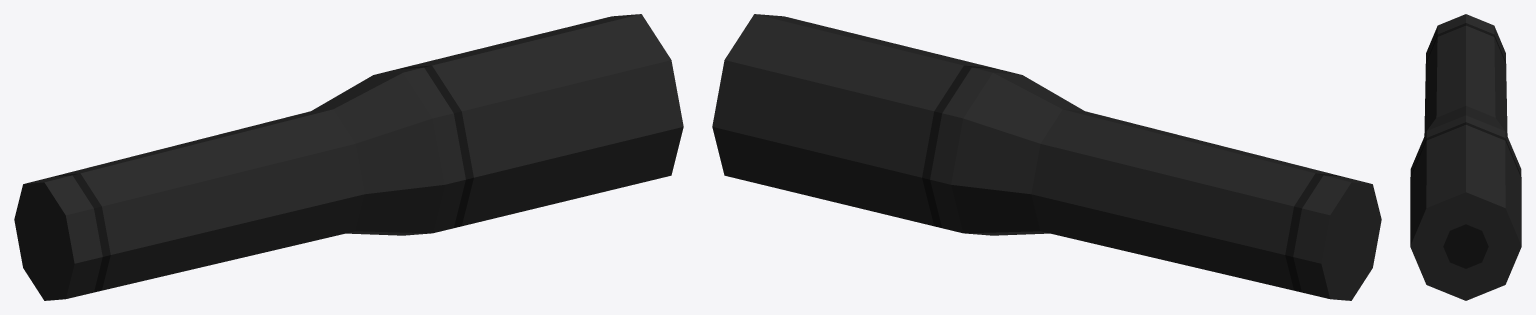
Rendered from Accesories_Silencer_V3.FBX.
3 views of the same model, side by side, from view 1: azimuth 30°, elevation 25°; view 2: azimuth 150°, elevation 25°; view 3: azimuth 270°, elevation 25° (orthographic). The views are drawn at different scales.
Parts seen in each view (by area): view 1: Accesories_Silencer_V3; view 2: Accesories_Silencer_V3; view 3: Accesories_Silencer_V3.
Boxes of the visible parts, left/top/right/bottom form: Accesories_Silencer_V3: left=14, top=14, right=683, bottom=300; Accesories_Silencer_V3: left=712, top=14, right=1381, bottom=300; Accesories_Silencer_V3: left=1410, top=14, right=1521, bottom=300.
Size of the model in its own units: 149 by 39.21 by 36.45.
